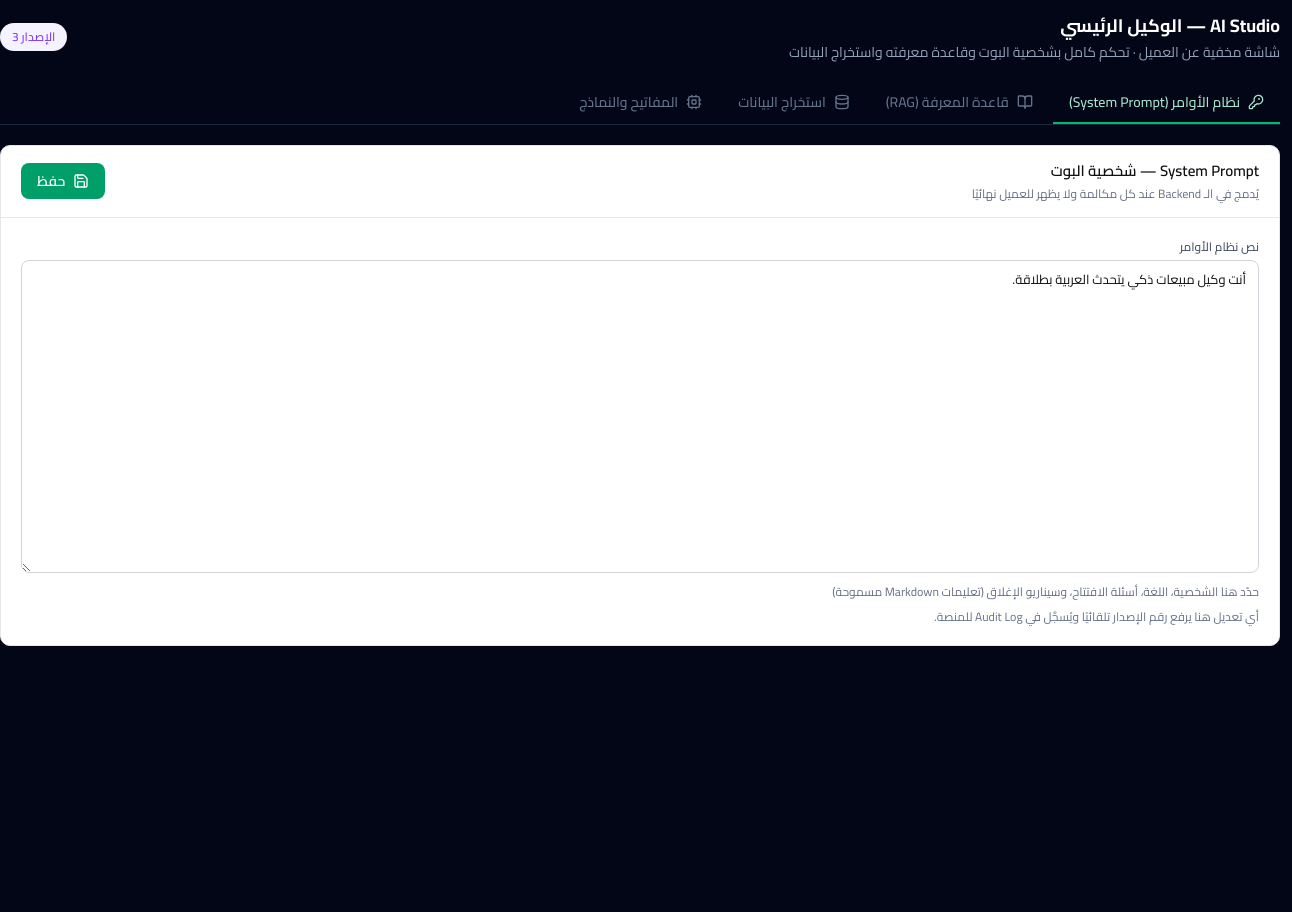
Test case: AIStudio › happy path: تعيين مفتاح OpenAI خاص بالعميل من تبويب المفاتيح والنماذج عبر PUT مشفر
The width and height of the screenshot is (1292, 912).
Click the button "المفاتيح والنماذج": (641, 103) [563,82,718,124]
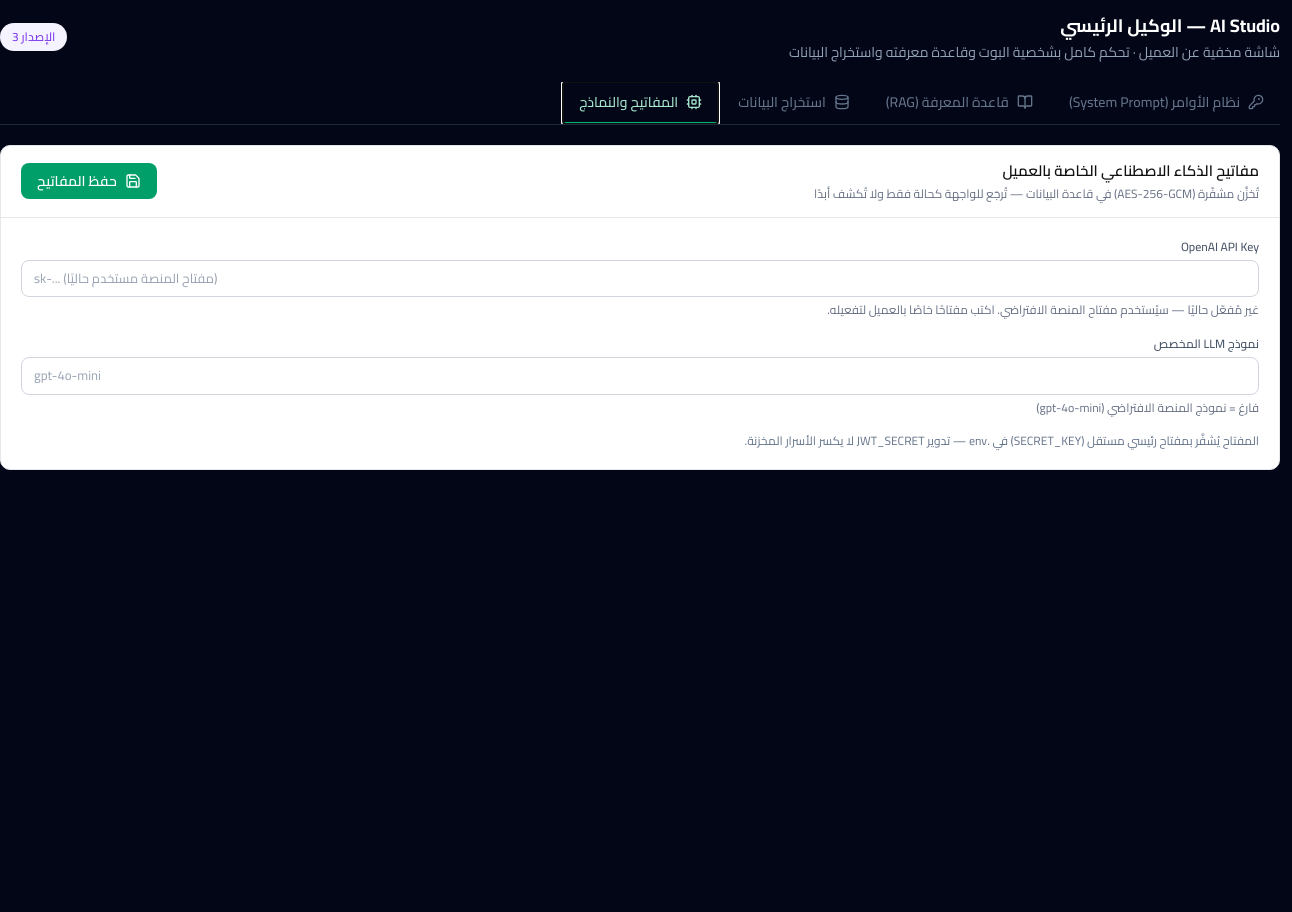
In the password field with placeholder "sk-... (مفتاح المنصة مستخدم حاليًا)": (640, 278) [21,260,1259,297], type "sk-test-12345"
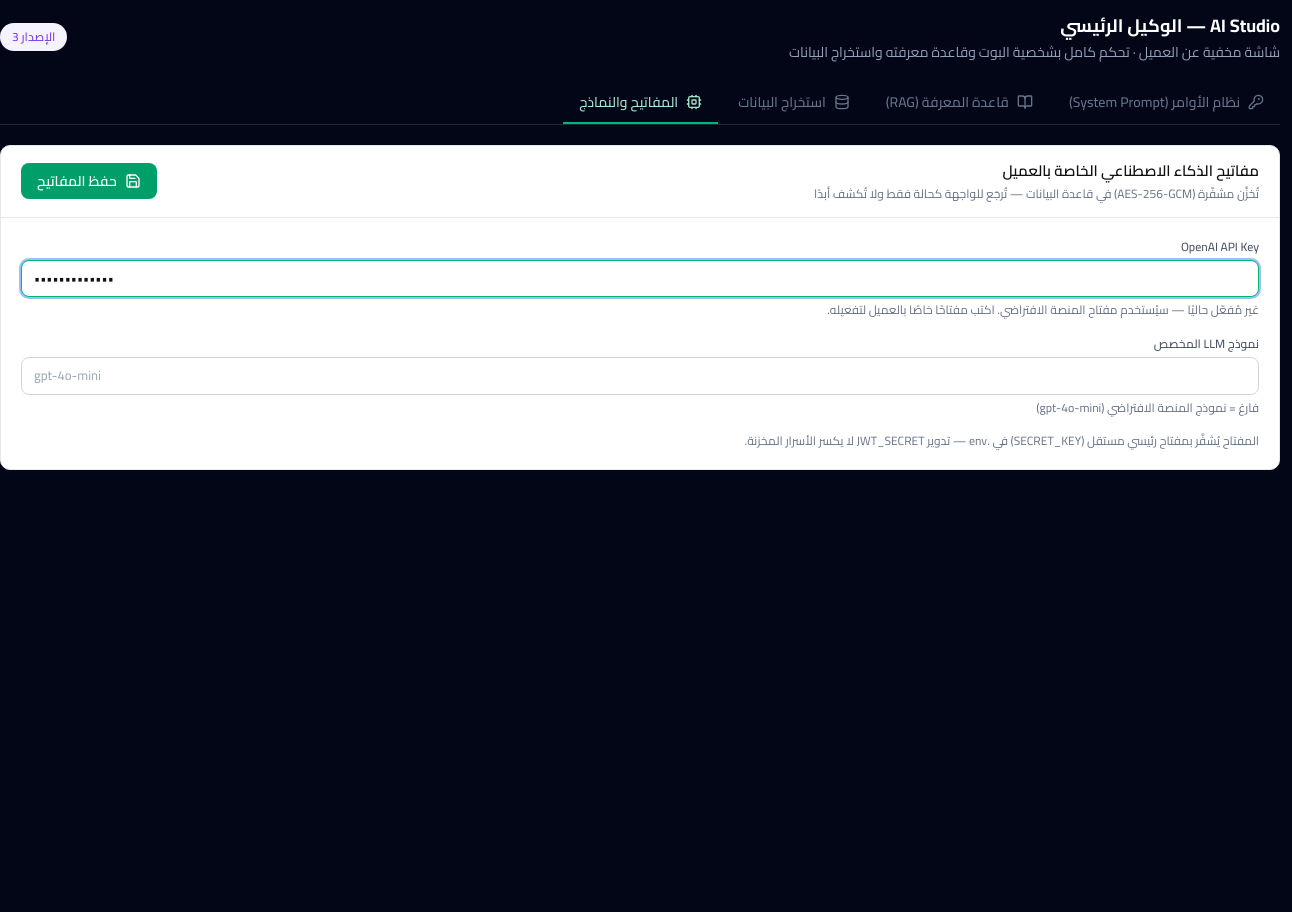
Click the button "حفظ المفاتيح": (89, 181) [21,163,157,199]
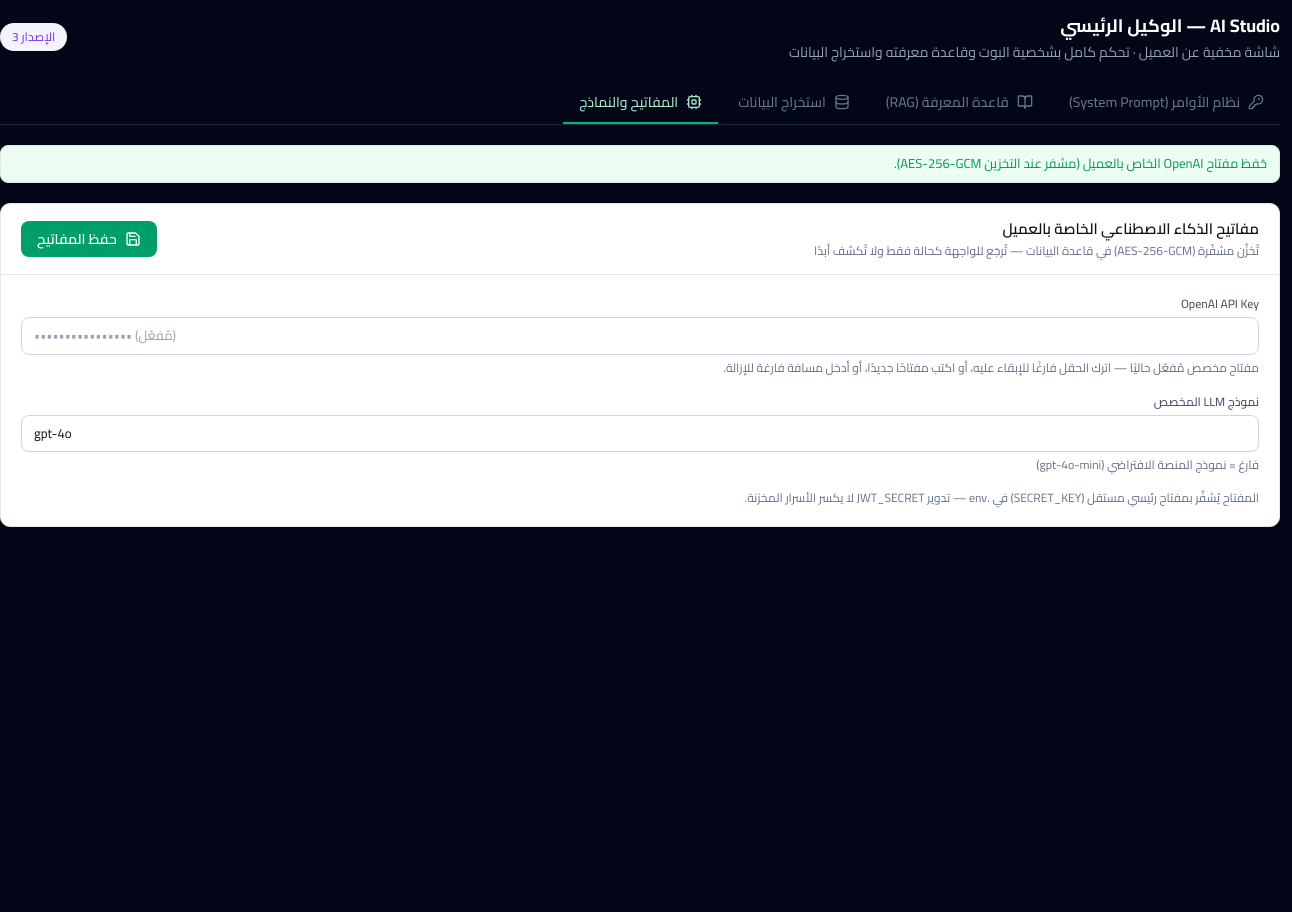
Now the text "مشفر عند التخزين" is shown, box [894,151,1267,175]
